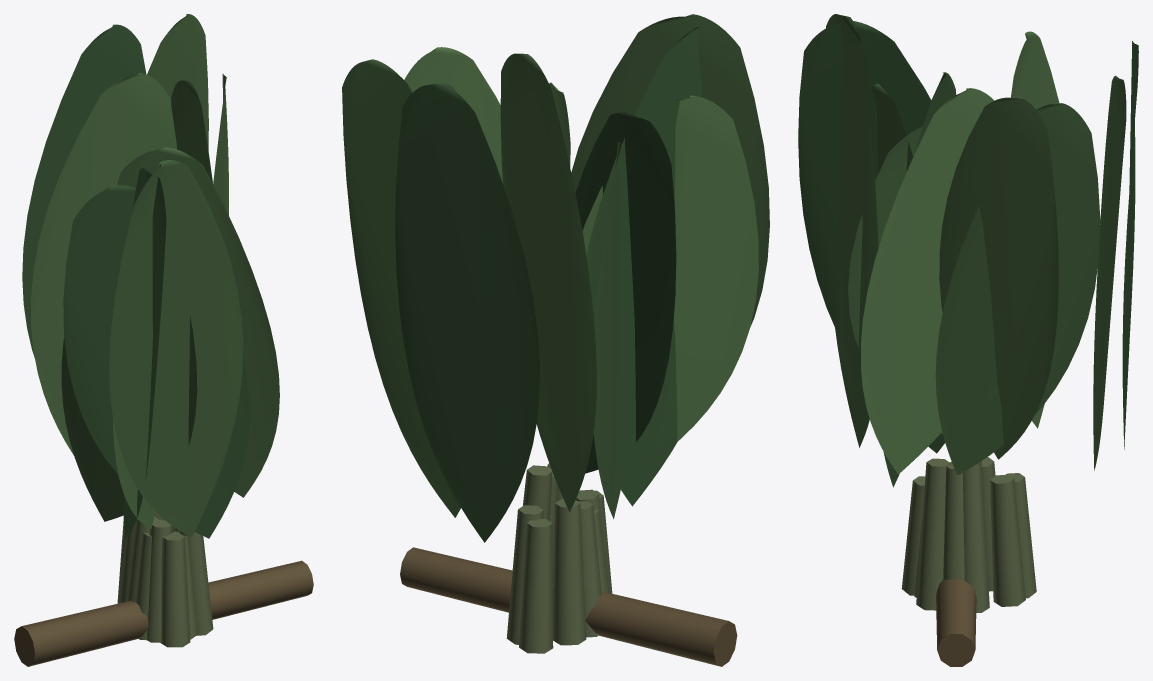
Rendered from plant-anubias-nana-clump.glb.
3 views of the same model, side by side, from view 1: azimuth 30°, elevation 25°; view 2: azimuth 150°, elevation 25°; view 3: azimuth 270°, elevation 25° (orthographic). The views are drawn at different scales.
Visible parts, largest first — view 1: plant-anubias-nana-clump; view 2: plant-anubias-nana-clump; view 3: plant-anubias-nana-clump.
Part boxes in pixels (x1=…): plant-anubias-nana-clump: x1=14, y1=14, x2=313, y2=666; plant-anubias-nana-clump: x1=342, y1=14, x2=769, y2=666; plant-anubias-nana-clump: x1=798, y1=14, x2=1138, y2=666.
Bounding box in the file's own units: 0.34 × 0.6205 × 0.3364.
